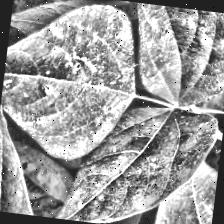Bean Rust: (0, 0, 147, 166), (59, 95, 218, 224), (107, 0, 224, 114), (0, 129, 75, 219)
